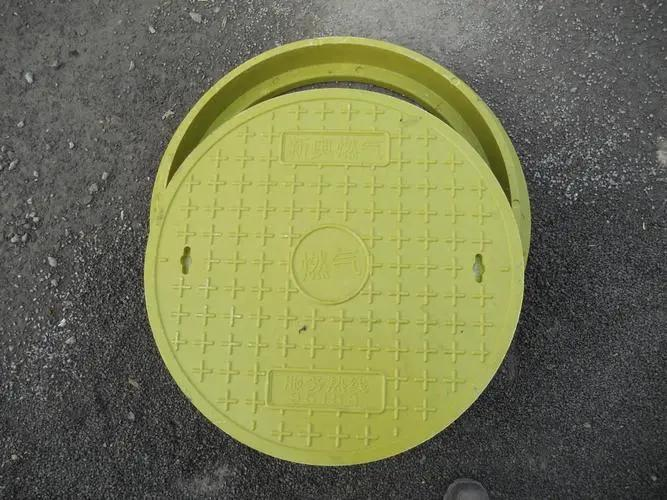wellcover: (139, 18, 577, 468)
